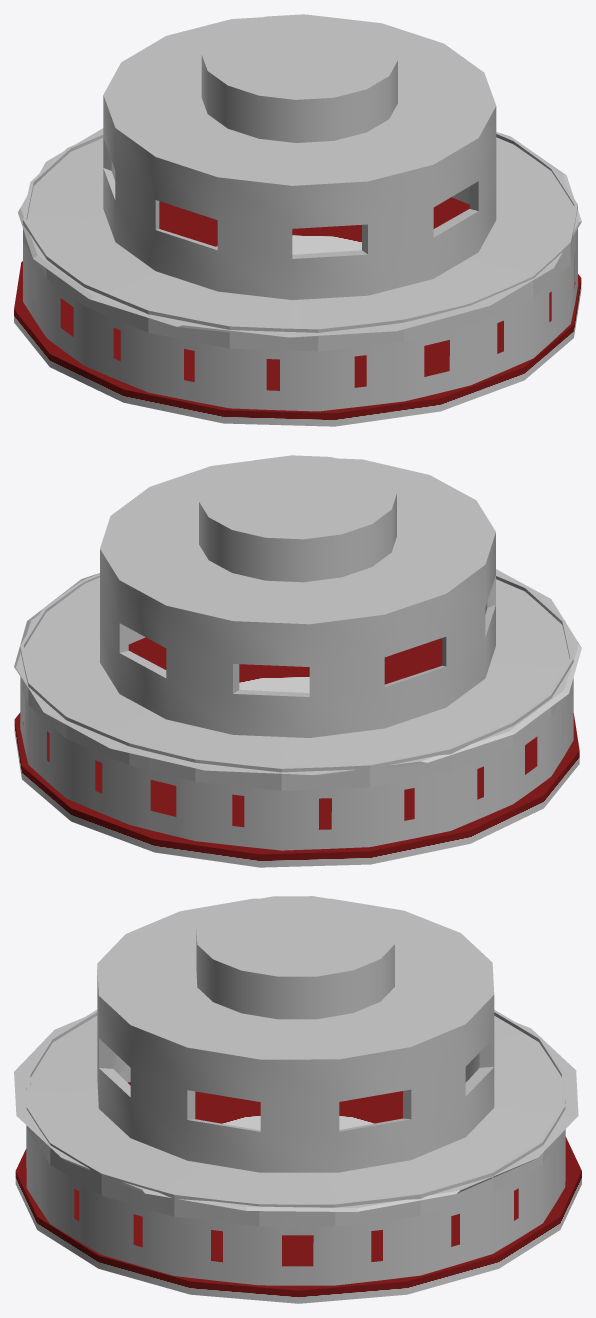
File: circuloPrueba3.fbx
3 views of the same model, one above another, from view 1: azimuth 30°, elevation 25°; view 2: azimuth 150°, elevation 25°; view 3: azimuth 270°, elevation 25° (orthographic).
Parts seen in each view (by area): view 1: Cylinder002, Object009, Cylinder003; view 2: Cylinder002, Object009, Cylinder003; view 3: Cylinder002, Object009, Cylinder003.
Boxes of the visible parts, x1=… form: Cylinder002: x1=18, y1=14, x2=581, y2=338; Object009: x1=23, y1=132, x2=577, y2=411; Cylinder003: x1=14, y1=197, x2=581, y2=426; Cylinder002: x1=14, y1=455, x2=581, y2=775; Object009: x1=20, y1=573, x2=573, y2=850; Cylinder003: x1=14, y1=637, x2=579, y2=867; Cylinder002: x1=14, y1=896, x2=578, y2=1211; Object009: x1=26, y1=1010, x2=565, y2=1285; Cylinder003: x1=15, y1=1082, x2=581, y2=1303.
Size of the model in its own units: 23.42 by 11.32 by 23.49.
